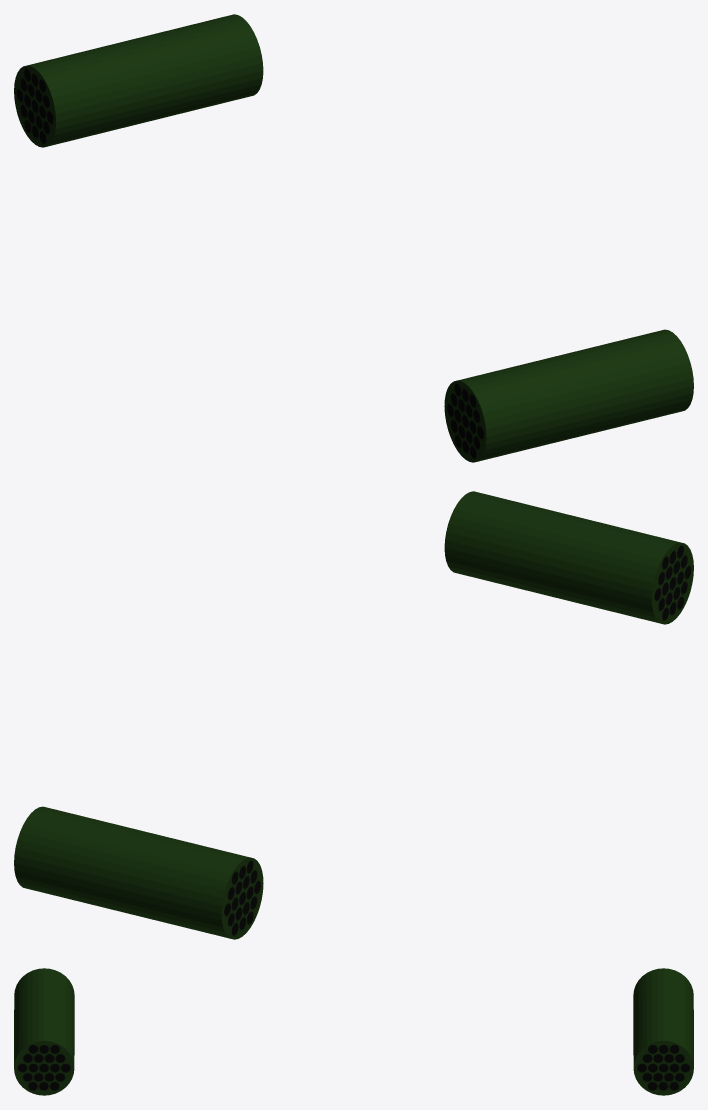
3 renders of one model, top to bottom at view 1: azimuth 30°, elevation 25°; view 2: azimuth 150°, elevation 25°; view 3: azimuth 270°, elevation 25°, orthographic. The views are drawn at different scales.
Visible parts, largest first — view 1: 円柱.003, 円柱.001; view 2: 円柱.001, 円柱.003; view 3: 円柱.001, 円柱.003.
Part boxes in pixels (x1=…): 円柱.003: x1=444, y1=329, x2=693, y2=462; 円柱.001: x1=14, y1=14, x2=263, y2=147; 円柱.001: x1=14, y1=806, x2=263, y2=939; 円柱.003: x1=444, y1=491, x2=693, y2=624; 円柱.001: x1=633, y1=968, x2=693, y2=1095; 円柱.003: x1=14, y1=968, x2=74, y2=1095.
Size of the model in its own units: 1.44 by 0.5077 by 5.67.
1 material, 1 textured.
